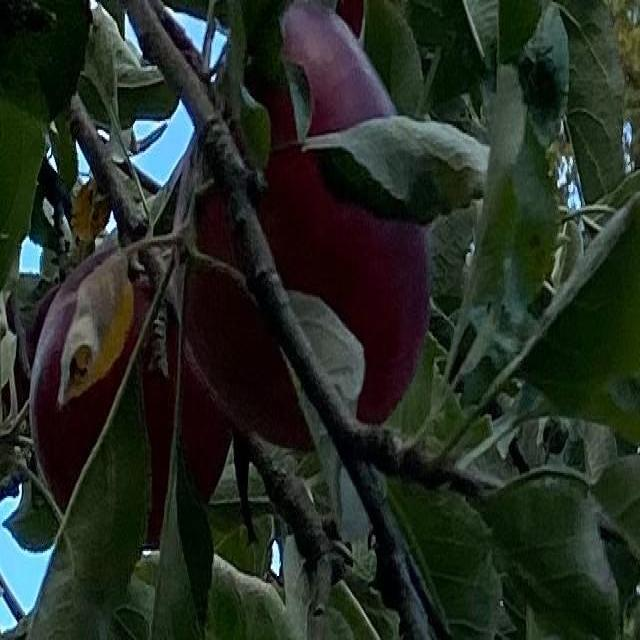Rotten Apple: (181, 12, 429, 446), (31, 237, 233, 548)
